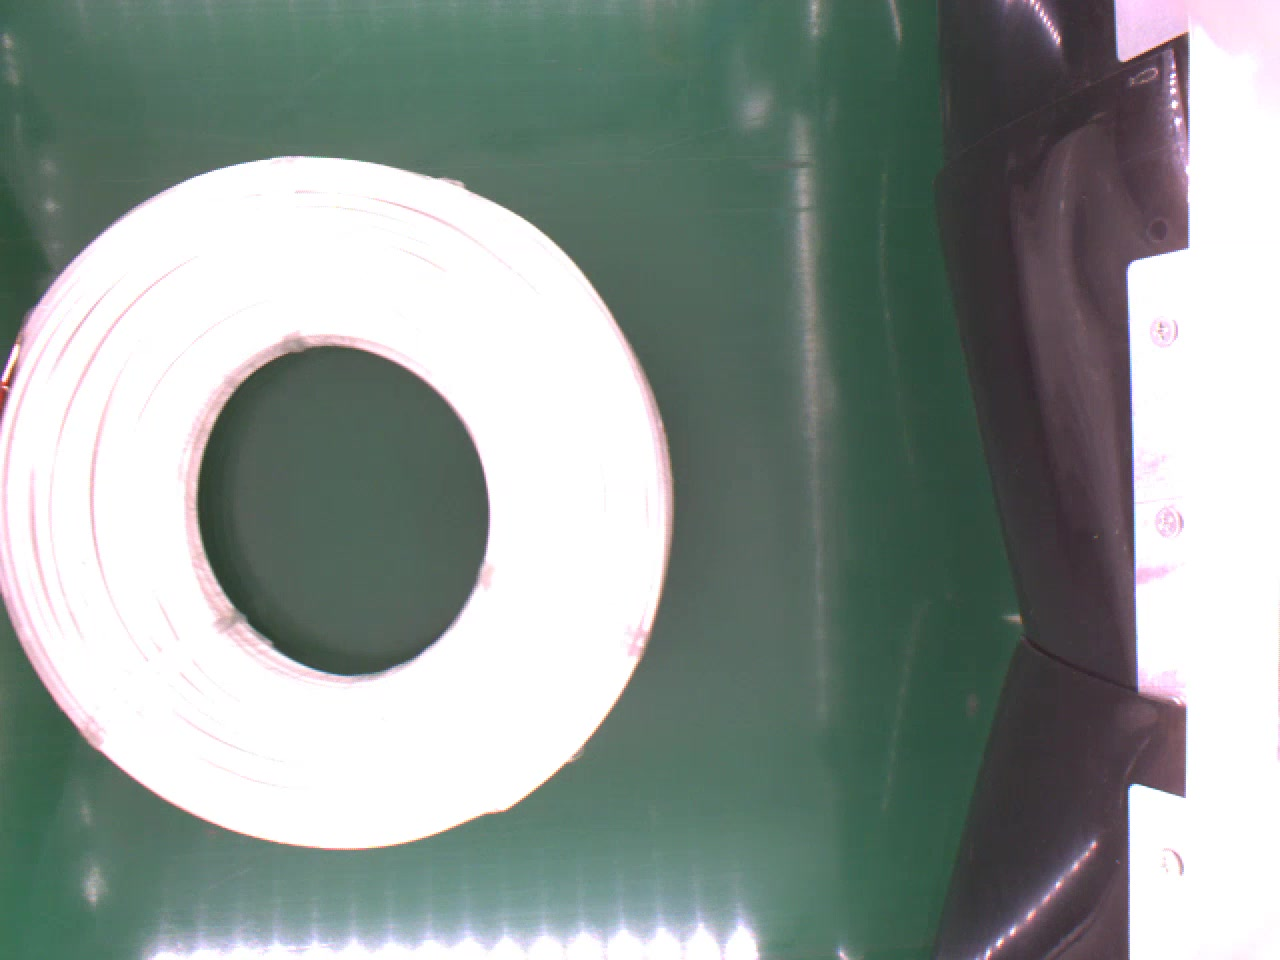white: (0, 151, 673, 853)
